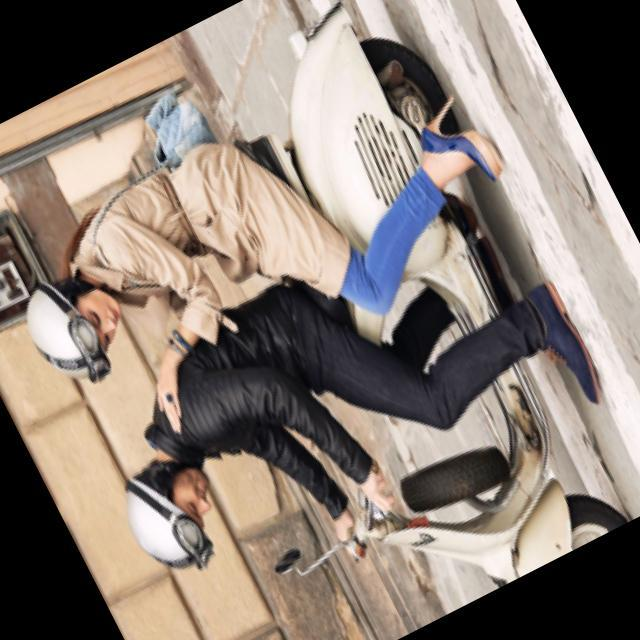WITH_HELMET: (100, 448, 242, 597), (7, 256, 142, 399)
